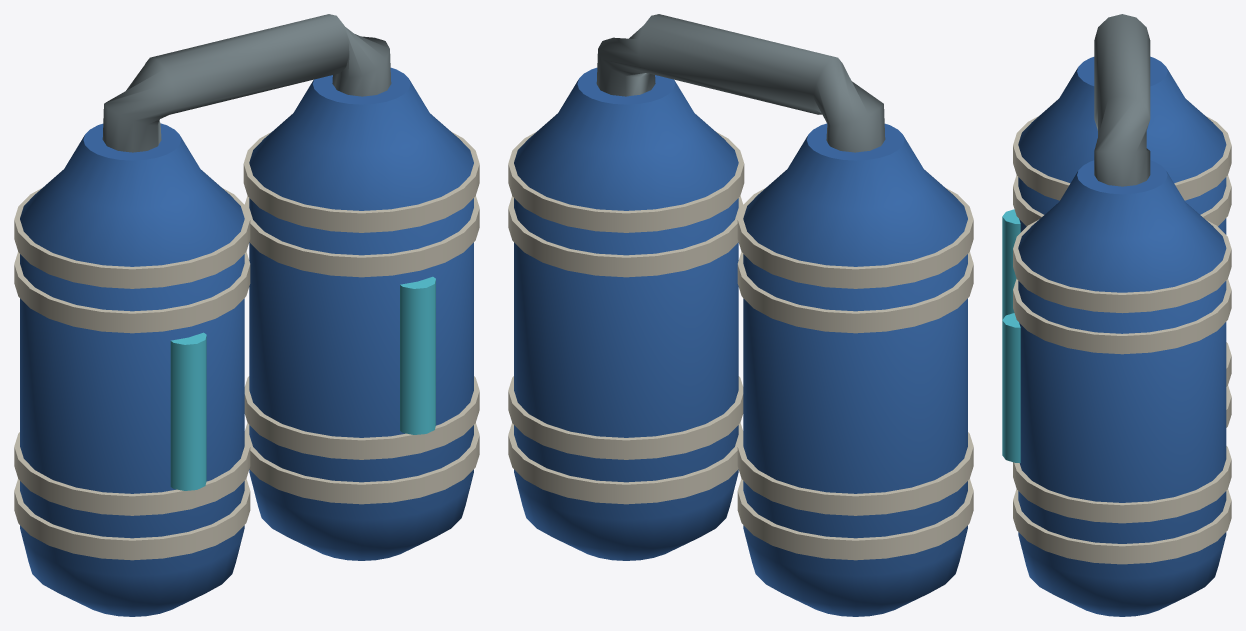
The model's file is boss_coolant.glb.
3 renders of one model, left to right at view 1: azimuth 30°, elevation 25°; view 2: azimuth 150°, elevation 25°; view 3: azimuth 270°, elevation 25°, orthographic. The views are drawn at different scales.
Visible parts, largest first — view 1: boss_coolant; view 2: boss_coolant; view 3: boss_coolant.
Boxes of the visible parts, box(x1,y1,x2,y2) form: boss_coolant: box(14, 14, 479, 616); boss_coolant: box(508, 14, 973, 616); boss_coolant: box(1002, 14, 1231, 616).
Size of the model in its own units: 1.74 by 2.02 by 0.86.
